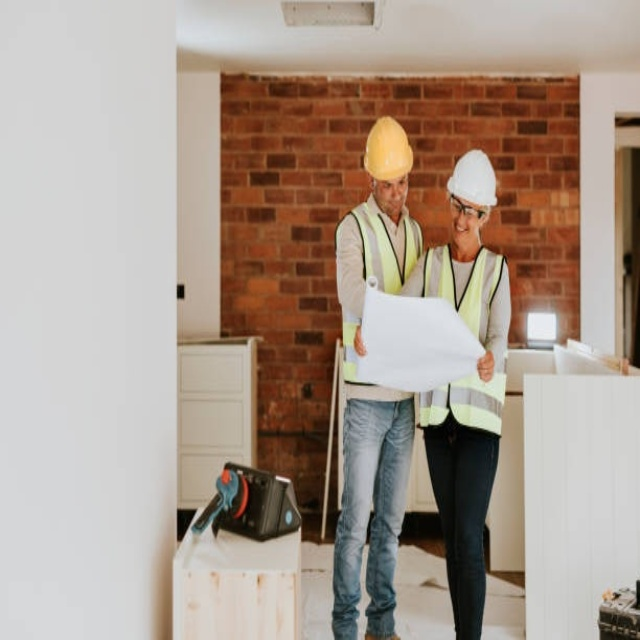Gafas: (450, 194, 488, 220)
Sin_guantes: (476, 349, 495, 380), (353, 323, 367, 357)
Sin_mascara: (452, 220, 470, 245)
